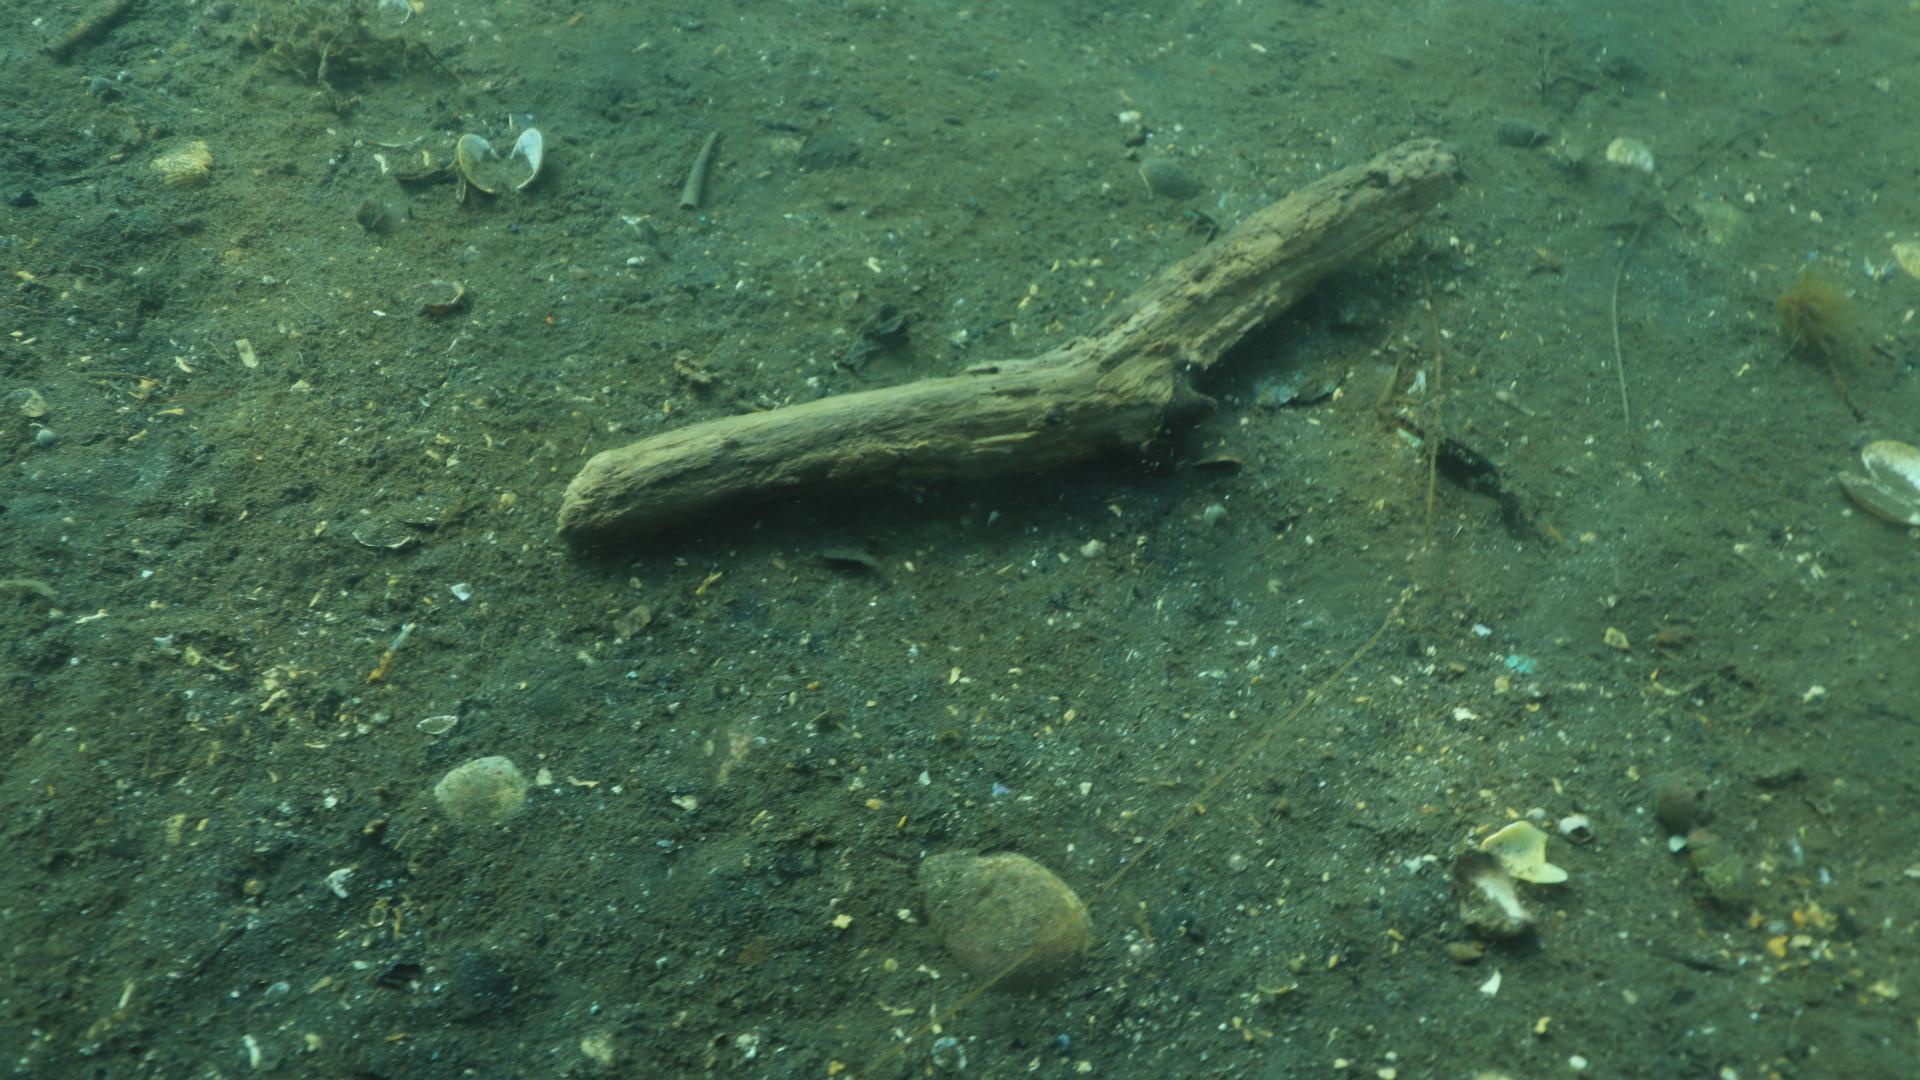wood: (554, 133, 1468, 551)
